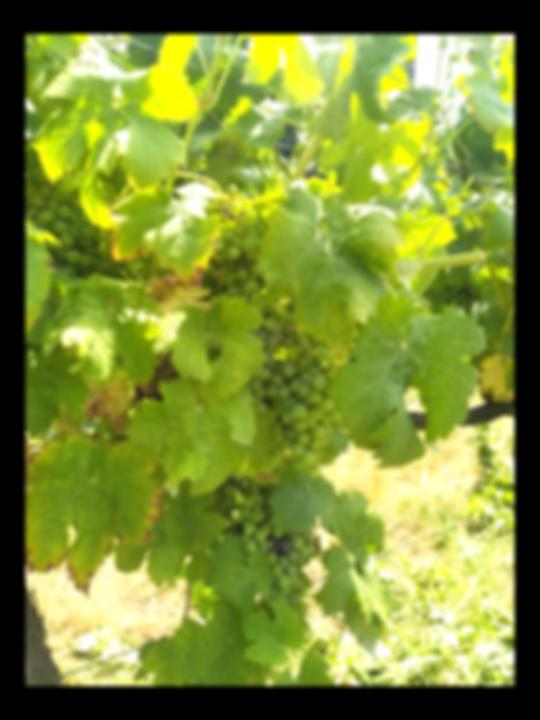grape: (248, 353, 340, 486)
